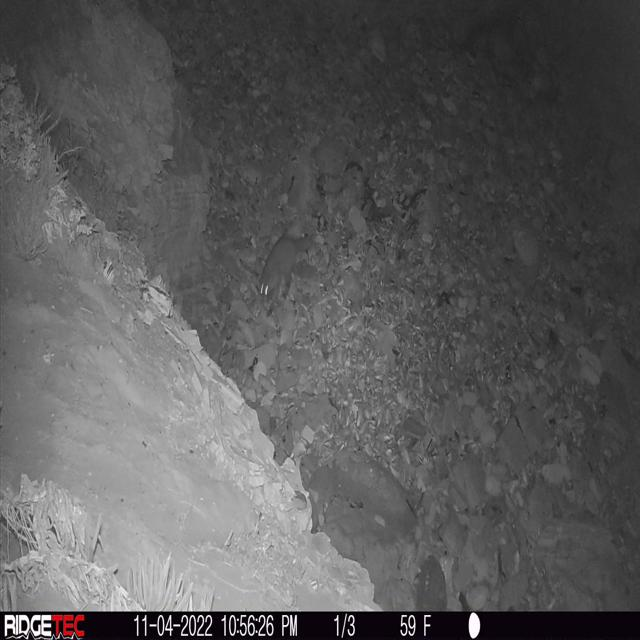raccoon: (257, 222, 315, 302)
